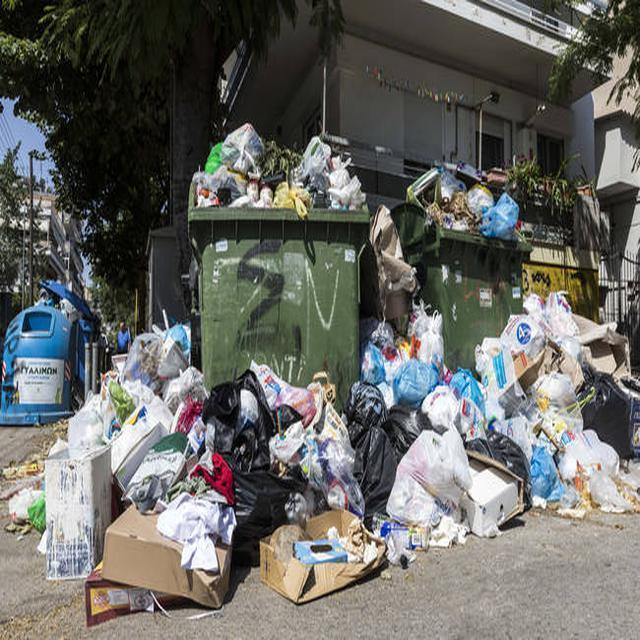Trashbag: (347, 393, 434, 520), (202, 364, 299, 469), (216, 463, 308, 559), (462, 424, 531, 492)
